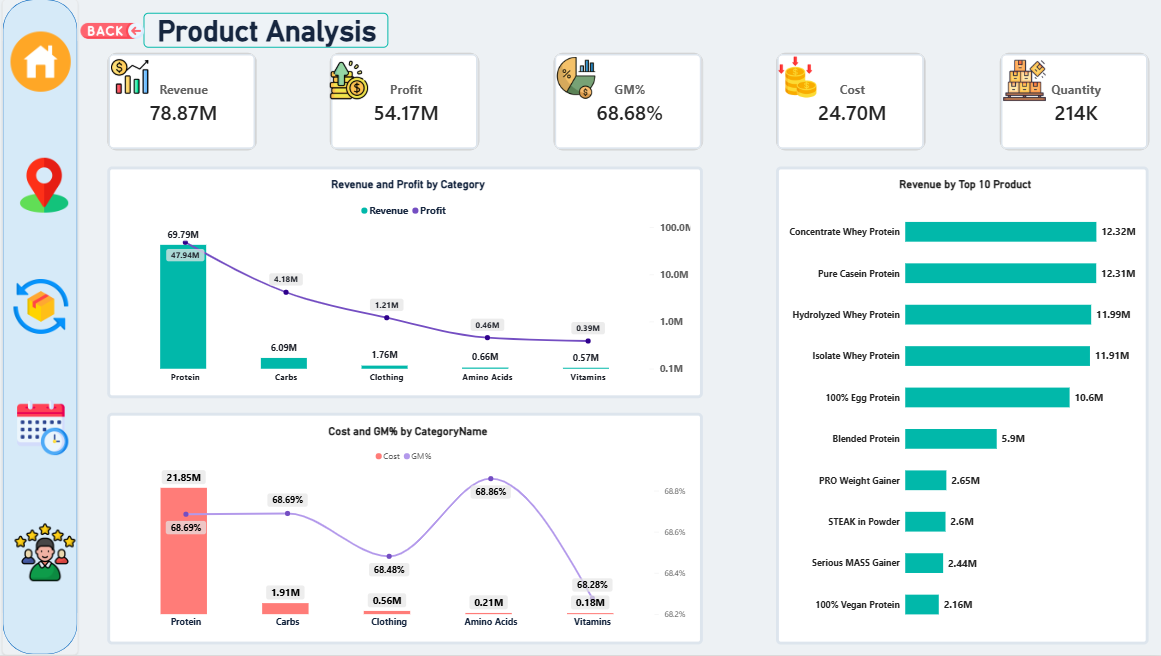

The page's visual inventory and layout, read from the dashboard file:
{"tool":"powerbi","page":{"name":"Product Analysis","canvas":[1920,1080],"ordinal":4},"visuals":[{"type":"cardVisual","fields":{"Data":["Calculations.Revenue"]},"box":[182.8,88.7,246.1,161.1],"z":0},{"type":"cardVisual","fields":{"Data":["Calculations.Profit"]},"box":[550.1,88.7,246.1,161.1],"z":1000},{"type":"cardVisual","fields":{"Data":["Calculations.Cost"]},"box":[1284.9,88.7,246.1,161.1],"z":2000},{"type":"cardVisual","fields":{"Data":["Calculations.Quantity"]},"box":[1652.2,88.7,246.1,161.1],"z":3000},{"type":"shape","box":[10.9,0,124.9,1080.4],"z":4000},{"type":"lineClusteredColumnComboChart","title":"Revenue and Profit by Category","fields":{"Category":["D_Product.CategoryName"],"Y":["Calculations.Revenue"],"Y2":["Calculations.Profit"]},"box":[182.8,275.1,980.8,381.8],"z":5000},{"type":"barChart","title":"Revenue by Top 10 Product","fields":{"Category":["D_Product.ProductName"],"Y":["Calculations.Revenue"]},"box":[1284.9,275.1,613.5,787.2],"z":6000},{"type":"cardVisual","fields":{"Data":["Calculations.GM%"]},"box":[917.5,88.7,246.1,161.1],"z":7000},{"type":"lineClusteredColumnComboChart","fields":{"Category":["D_Product.CategoryName"],"Y":["Calculations.Cost"],"Y2":["Calculations.GM%"]},"box":[182.8,680.4,980.8,381.8],"z":8000},{"type":"textbox","title":"Product Analysis","box":[242.5,23.5,403.6,57.9],"z":9000},{"type":"image","box":[10.9,54.3,126.7,99.5],"z":9001},{"type":"image","box":[19.9,262.4,117.6,90.5],"z":9002},{"type":"image","box":[10.9,461.5,126.7,90.5],"z":9003},{"type":"image","box":[16.3,660.5,121.2,90.5],"z":9004},{"type":"image","box":[25.3,859.6,112.2,101.3],"z":9005},{"type":"image","box":[77.8,0,226.2,105],"z":9006},{"type":"image","box":[189.9,83.1,61.5,90.5],"z":9007},{"type":"image","box":[549.6,78.2,63.3,110.4],"z":9008},{"type":"image","box":[1284.4,92.6,70.6,72.4],"z":9009},{"type":"image","box":[1652.8,98.8,81.4,70.6],"z":9010},{"type":"image","box":[918,90.6,74.1,78.2],"z":9011}]}

Visuals, with their boxes in screenshot pixels (x1, y1, x2, y2), scaled from the page's 1920x1080 canvas onto the 1161x656 screenshot:
cardVisual - Calculations.Revenue: 111:54:259:152
cardVisual - Calculations.Profit: 333:54:481:152
cardVisual - Calculations.Cost: 777:54:926:152
cardVisual - Calculations.Quantity: 999:54:1148:152
shape: 7:0:82:655
"Revenue and Profit by Category" lineClusteredColumnComboChart: 111:167:704:399
"Revenue by Top 10 Product" barChart: 777:167:1148:645
cardVisual - Calculations.GM%: 555:54:704:152
lineClusteredColumnComboChart - D_Product.CategoryName x Calculations.Cost: 111:413:704:645
"Product Analysis" textbox: 147:14:391:49
image: 7:33:83:93
image: 12:159:83:214
image: 7:280:83:335
image: 10:401:83:456
image: 15:522:83:584
image: 47:0:184:64
image: 115:50:152:105
image: 332:47:371:115
image: 777:56:819:100
image: 999:60:1049:103
image: 555:55:600:103
